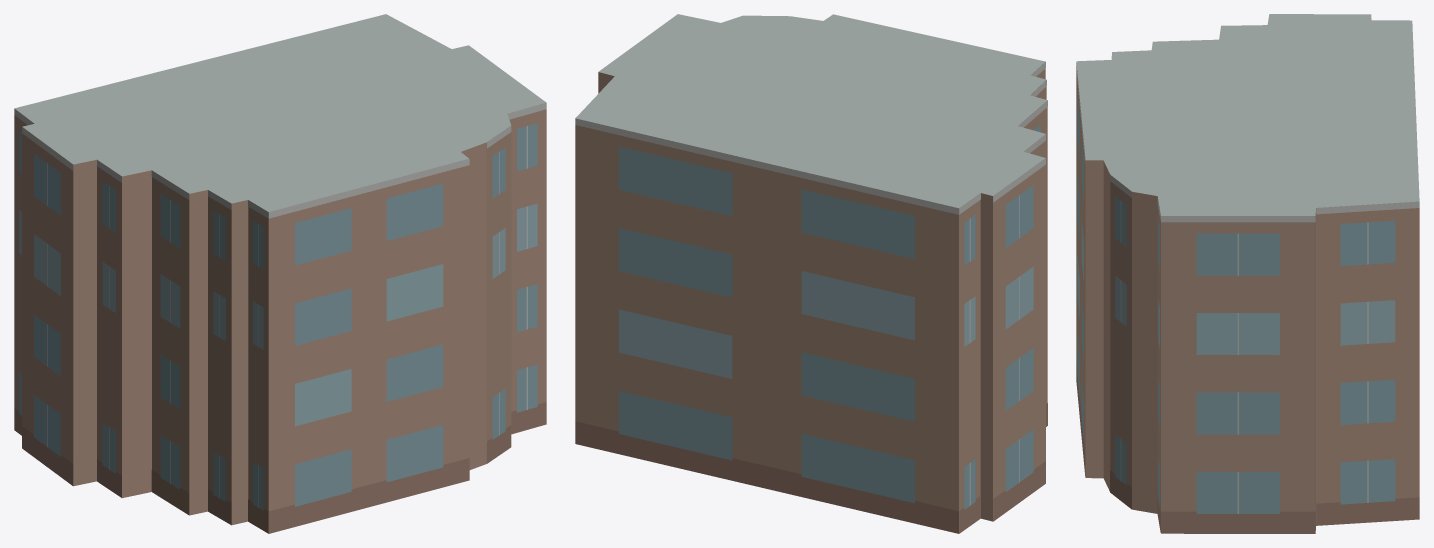
The model's file is survey-upis-32671015.glb.
3 renders of one model, left to right at view 1: azimuth 30°, elevation 25°; view 2: azimuth 150°, elevation 25°; view 3: azimuth 270°, elevation 25°, orthographic. The views are drawn at different scales.
Visible parts, largest first — view 1: survey-upis-32671015.tmp; view 2: survey-upis-32671015.tmp; view 3: survey-upis-32671015.tmp.
Boxes of the visible parts, x1,y1,x2,y2 form: survey-upis-32671015.tmp: [14, 14, 546, 533]; survey-upis-32671015.tmp: [575, 14, 1047, 533]; survey-upis-32671015.tmp: [1076, 14, 1419, 533].
Bounding box in the file's own units: 16.5 × 12.1 × 11.86.
